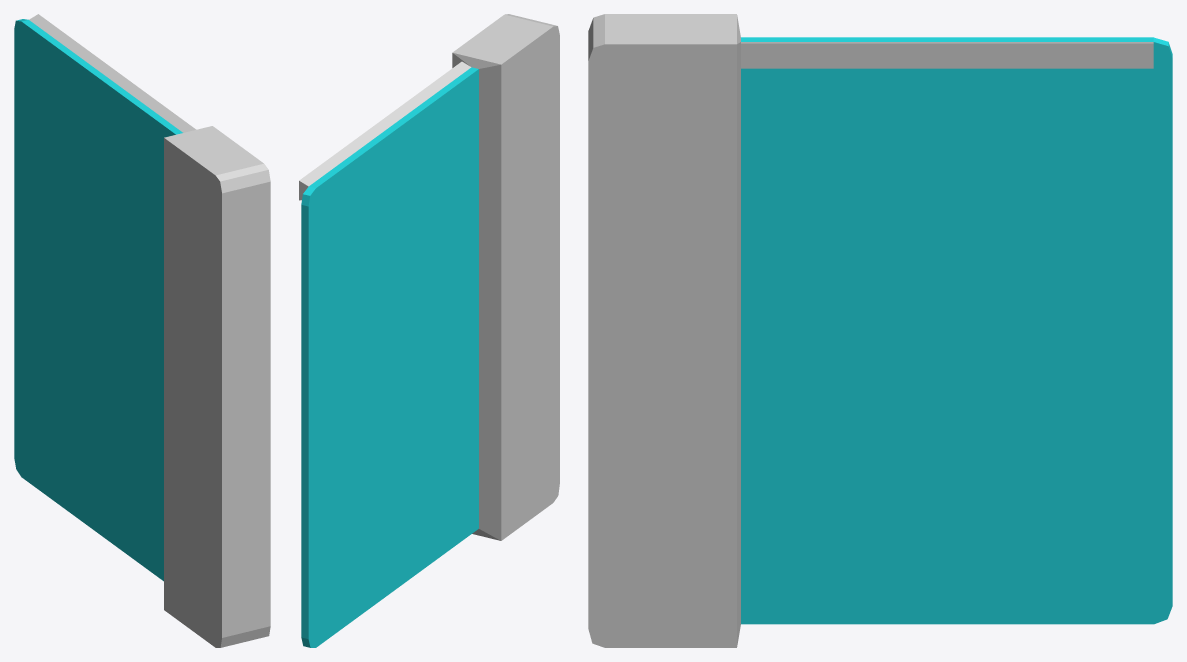
Rendered from LogBook.fbx.
3 views of the same model, side by side, from view 1: azimuth 30°, elevation 25°; view 2: azimuth 150°, elevation 25°; view 3: azimuth 270°, elevation 25° (orthographic). The views are drawn at different scales.
Visible parts, largest first — view 1: Logbook; view 2: Logbook; view 3: Logbook.
Part boxes in pixels (x1,y1,x2,y2): Logbook: [14, 14, 270, 647]; Logbook: [299, 14, 559, 647]; Logbook: [588, 14, 1172, 647].
Bounding box in the file's own units: 2.17 × 20.11 × 17.63.
